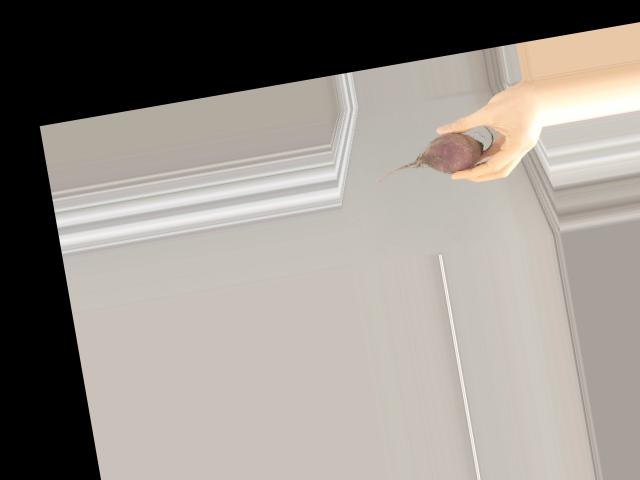beet: (366, 125, 496, 186)
